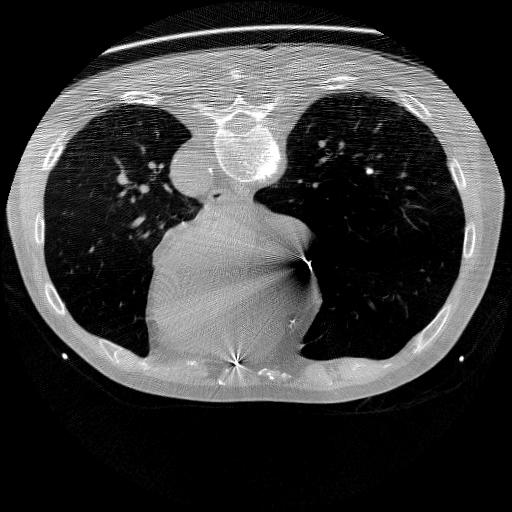nodule: (365, 166, 376, 177)
